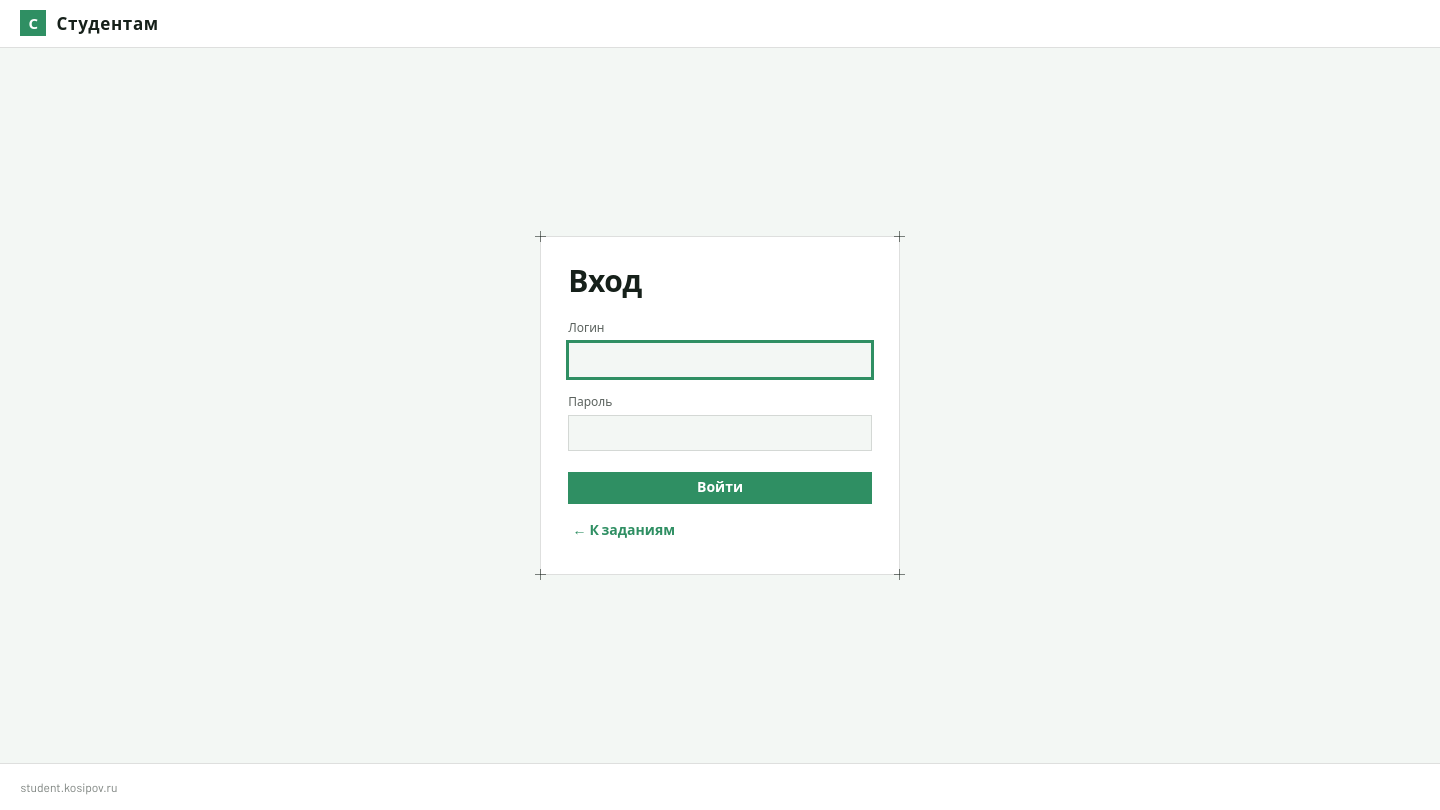
LoginPage › shows the server message for wrong credentials
The width and height of the screenshot is (1440, 810).
Type "admin" into the field labelled "Логин" at (720, 360), box [568,342,872,378]
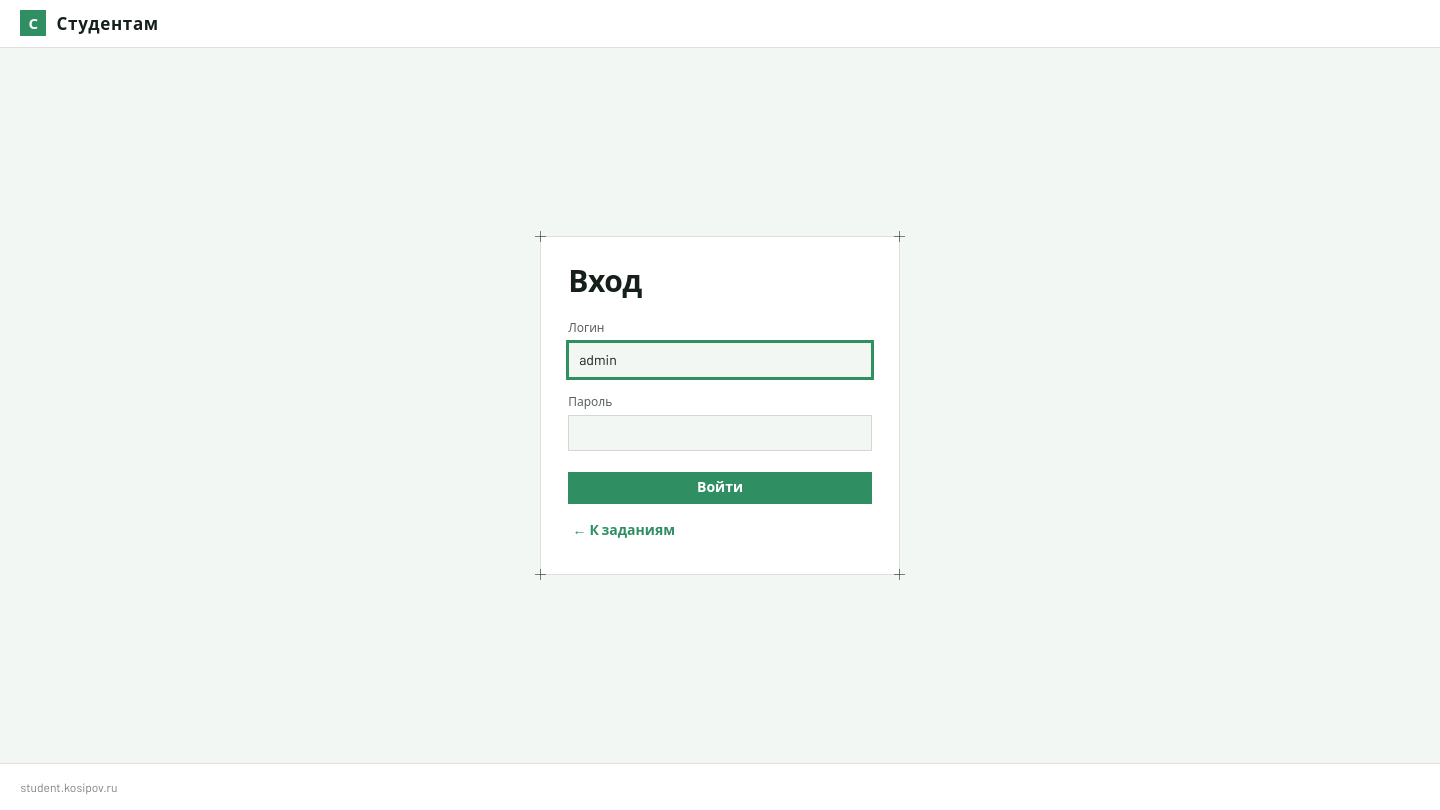
Type "wrong" into the password field labelled "Пароль" at (720, 433), box [568,415,872,451]
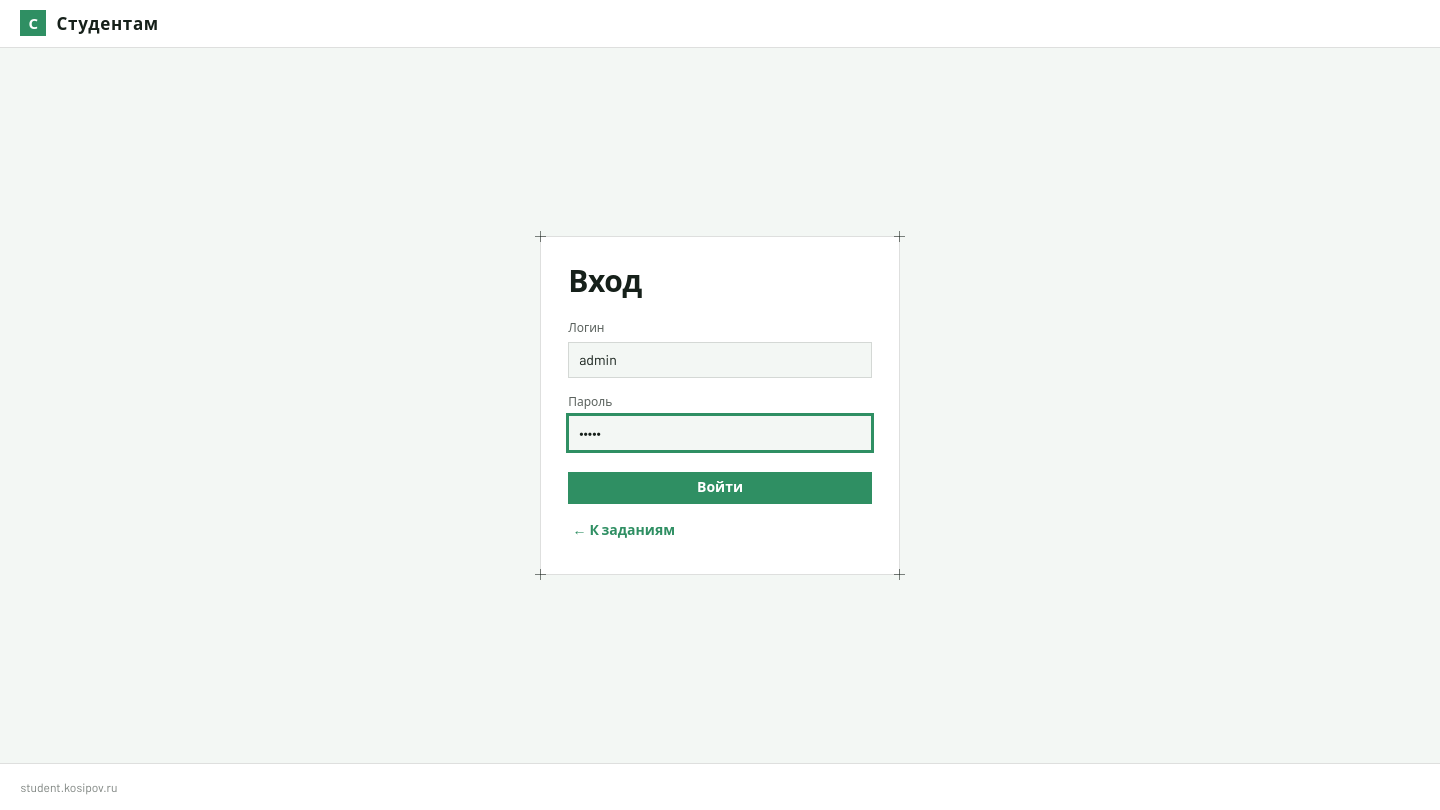
Click the button "Войти" at (720, 488), box [568,472,872,504]
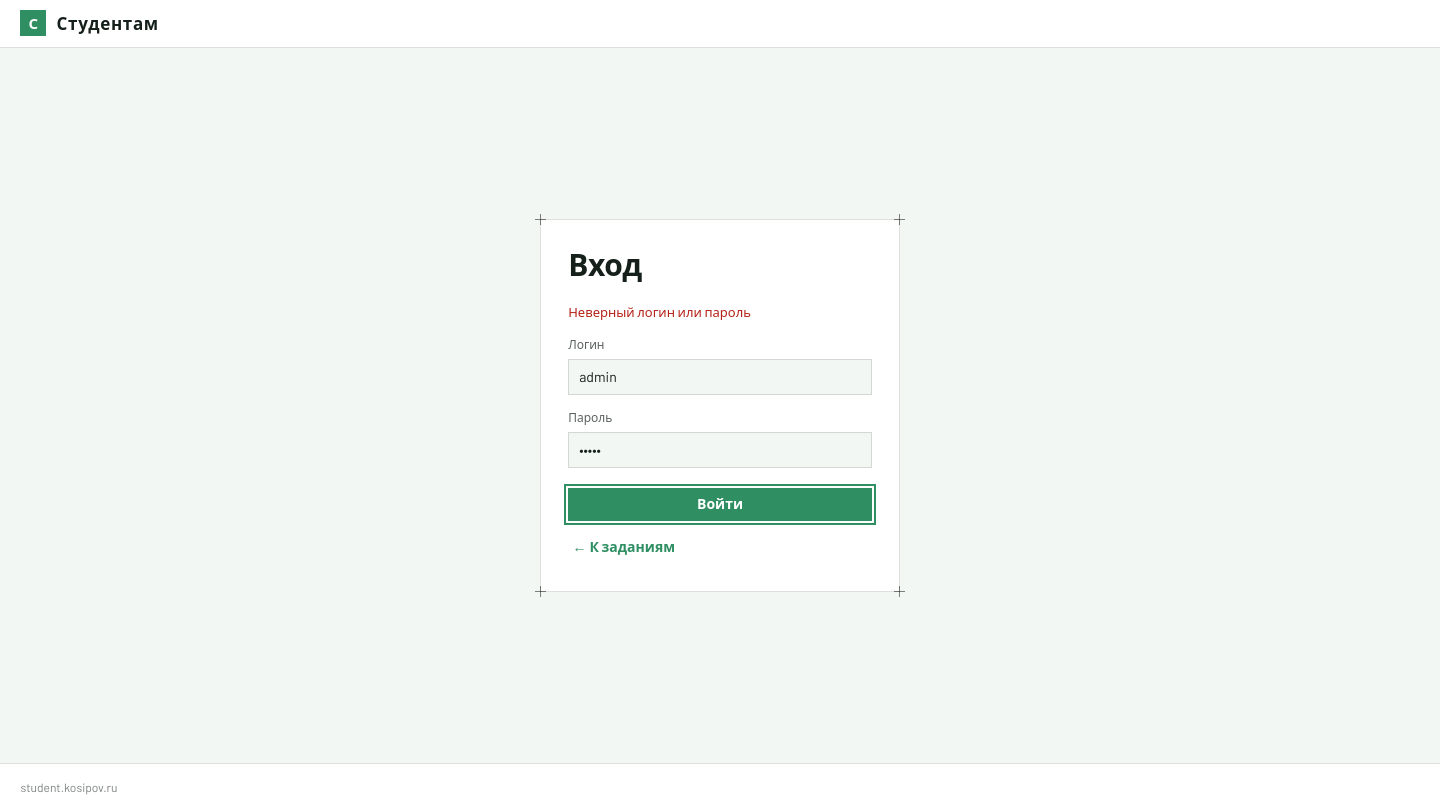
Now the message reads "Неверный логин или пароль", box [568,304,751,320]
